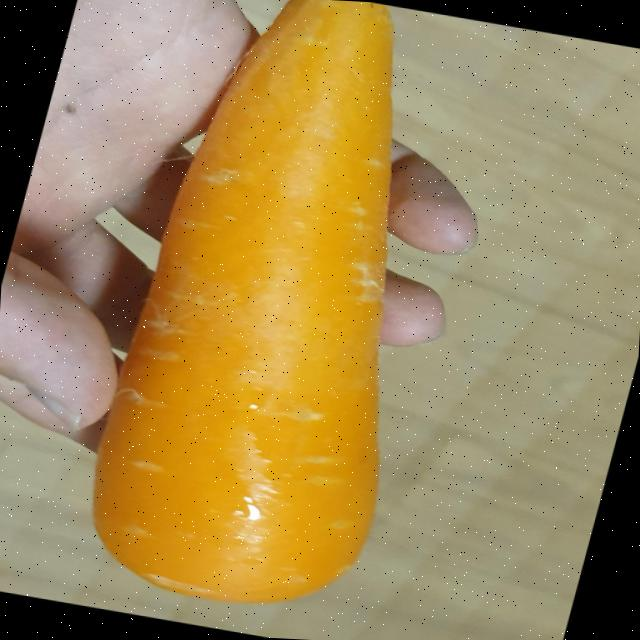carrot: (94, 0, 393, 603)
